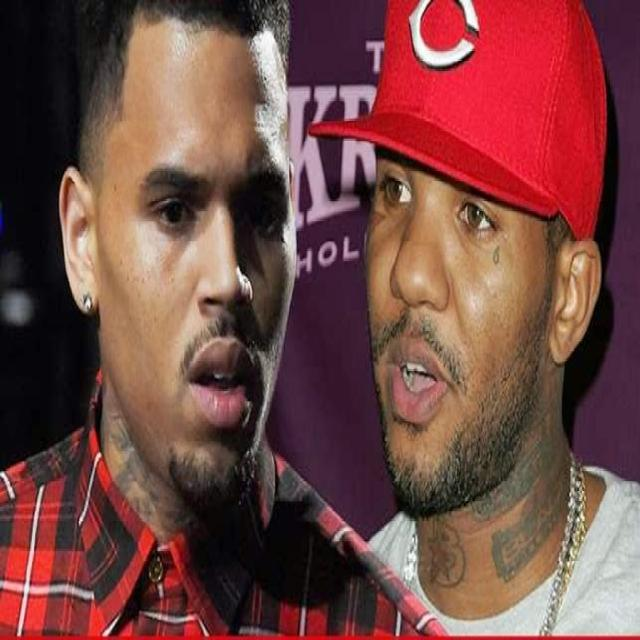Face: (118, 25, 302, 481), (365, 150, 578, 517)
